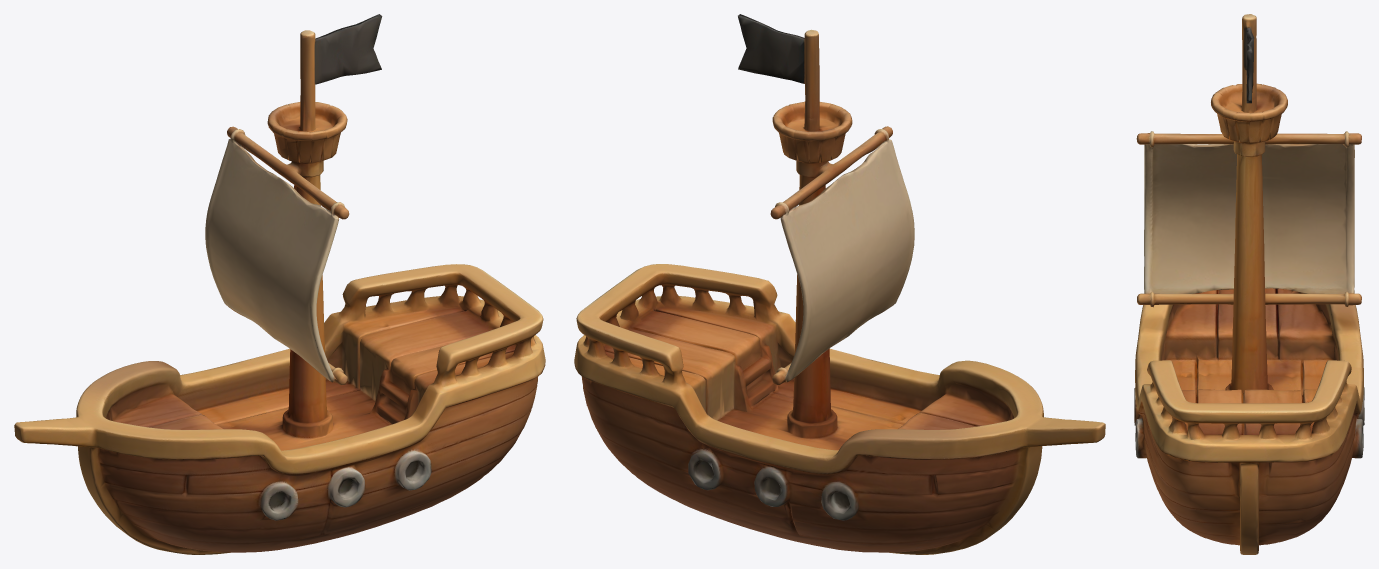
Rendered from ship.glb.
The picture shows the model from 3 angles, left to right: view 1: azimuth 30°, elevation 25°; view 2: azimuth 150°, elevation 25°; view 3: azimuth 270°, elevation 25°; orthographic projection. The views are drawn at different scales.
Parts seen in each view (by area): view 1: tripo_node_4cf27092-d246-4059-9c6f-244c433bb2d4; view 2: tripo_node_4cf27092-d246-4059-9c6f-244c433bb2d4; view 3: tripo_node_4cf27092-d246-4059-9c6f-244c433bb2d4.
Boxes of the visible parts, left/top/right/bottom form: tripo_node_4cf27092-d246-4059-9c6f-244c433bb2d4: left=14, top=14, right=545, bottom=554; tripo_node_4cf27092-d246-4059-9c6f-244c433bb2d4: left=574, top=14, right=1105, bottom=554; tripo_node_4cf27092-d246-4059-9c6f-244c433bb2d4: left=1134, top=14, right=1364, bottom=554.
Size of the model in its own units: 0.9994 by 0.9577 by 0.4081.
1 material, 1 textured.
